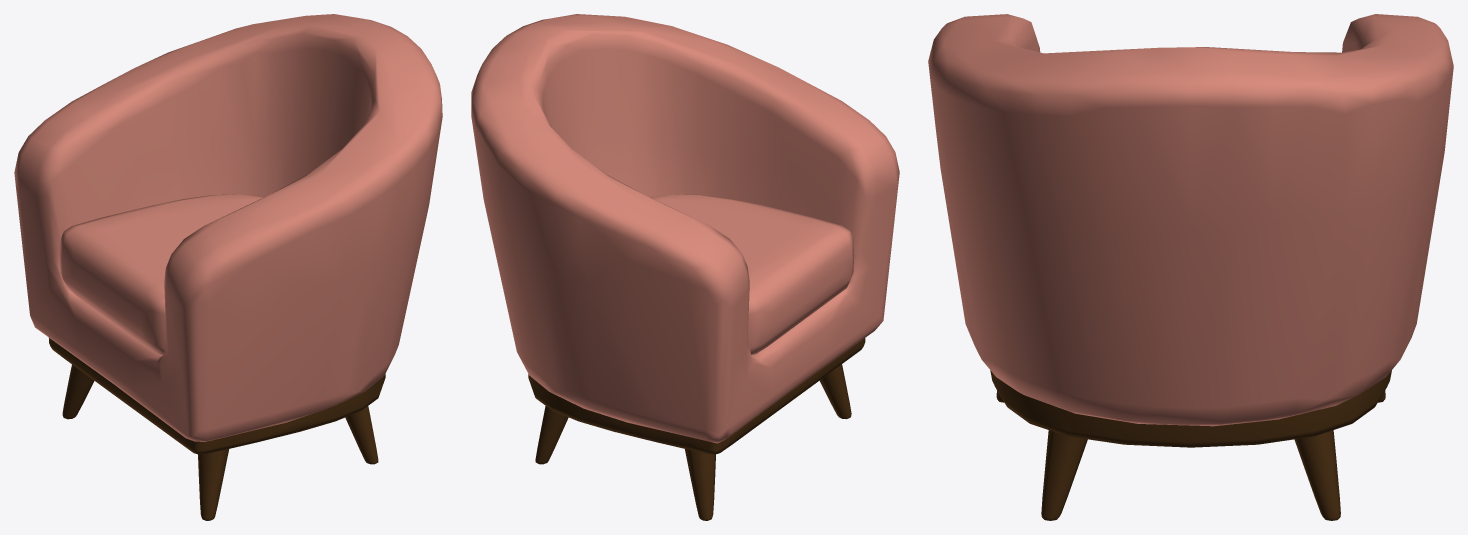
File: armchair_06_salmon.fbx
3 views of the same model, side by side, from view 1: azimuth 30°, elevation 25°; view 2: azimuth 150°, elevation 25°; view 3: azimuth 270°, elevation 25° (orthographic). The views are drawn at different scales.
Visible parts, largest first — view 1: armchair_06_salmon; view 2: armchair_06_salmon; view 3: armchair_06_salmon.
Part boxes in pixels (left/top/right/bottom): armchair_06_salmon: left=14, top=14, right=442, bottom=520; armchair_06_salmon: left=471, top=14, right=899, bottom=520; armchair_06_salmon: left=928, top=14, right=1453, bottom=520.
Size of the model in its own units: 105 by 120 by 114.
Materials: 2 (2 with a texture image).
